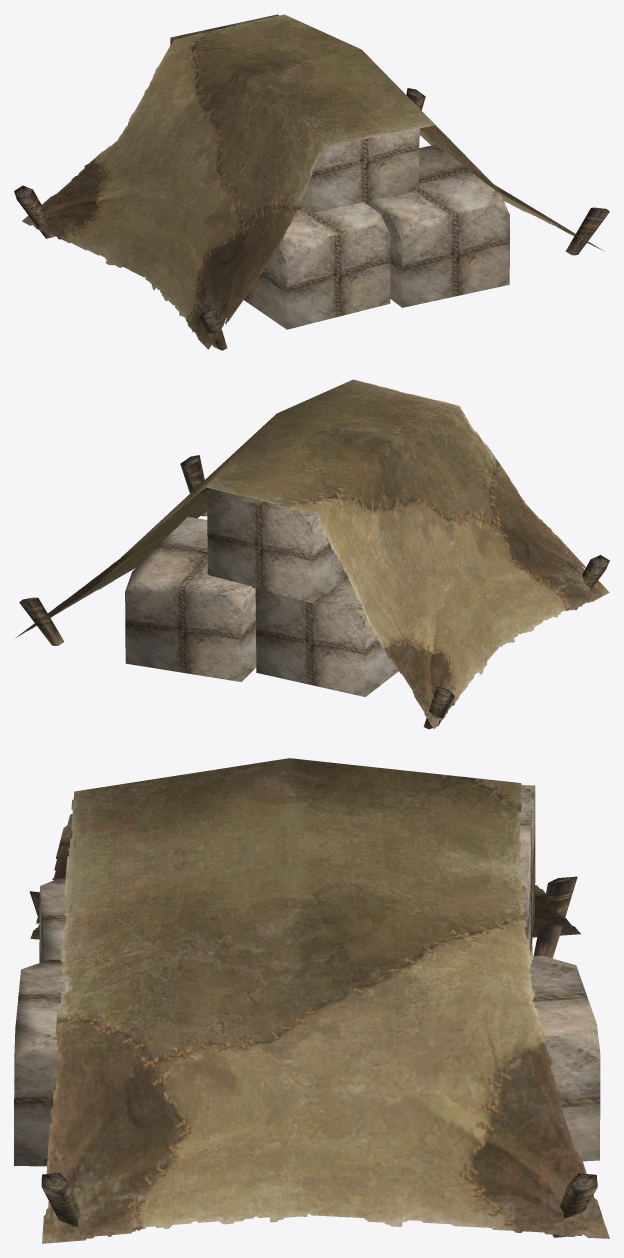
File: ruin_takla_tentportal13_01.glb
3 renders of one model, top to bottom at view 1: azimuth 30°, elevation 25°; view 2: azimuth 150°, elevation 25°; view 3: azimuth 270°, elevation 25°, orthographic. The views are drawn at different scales.
Visible parts, largest first — view 1: ruin_takla_tentportal13_01, ruin_takla_tentportal13_02, ruin_takla_tentportal13_03; view 2: ruin_takla_tentportal13_01, ruin_takla_tentportal13_02, ruin_takla_tentportal13_03; view 3: ruin_takla_tentportal13_01, ruin_takla_tentportal13_02, ruin_takla_tentportal13_03.
Part boxes in pixels (box(x1,y1,x2,y2)): ruin_takla_tentportal13_01: box(22, 14, 604, 349); ruin_takla_tentportal13_02: box(170, 14, 509, 329); ruin_takla_tentportal13_03: box(14, 88, 609, 350); ruin_takla_tentportal13_01: box(16, 379, 609, 728); ruin_takla_tentportal13_02: box(125, 488, 398, 696); ruin_takla_tentportal13_03: box(19, 455, 609, 729); ruin_takla_tentportal13_01: box(30, 758, 609, 1243); ruin_takla_tentportal13_02: box(14, 785, 600, 1166); ruin_takla_tentportal13_03: box(29, 876, 597, 1237).
Size of the model in its own units: 4.34 by 1.87 by 3.4.
3 materials, 3 textured.
